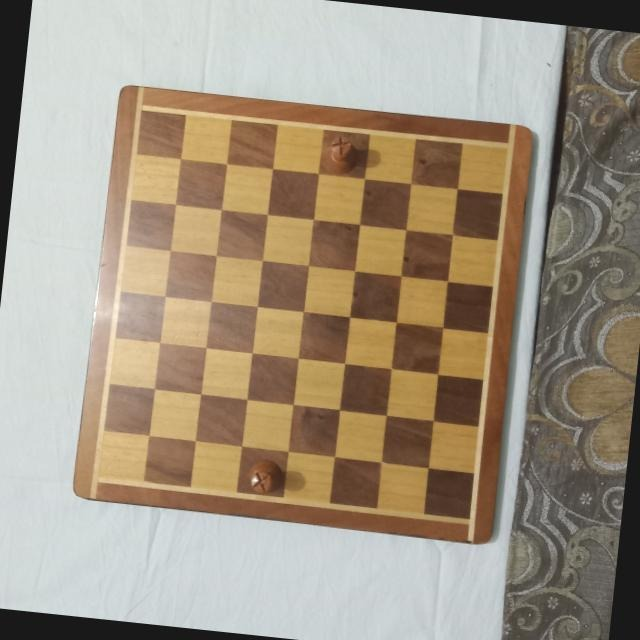white-rook: (320, 131, 360, 177), (242, 456, 284, 496)
